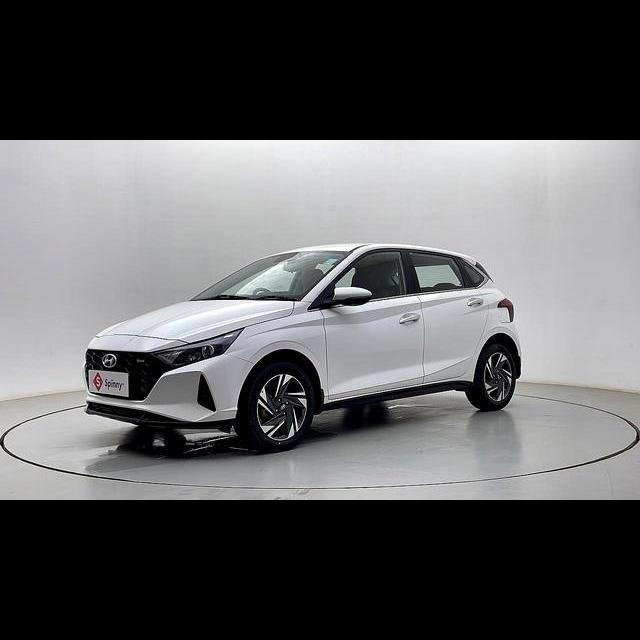number-plate: (88, 365, 133, 396)
vehicles: (82, 242, 514, 451)
